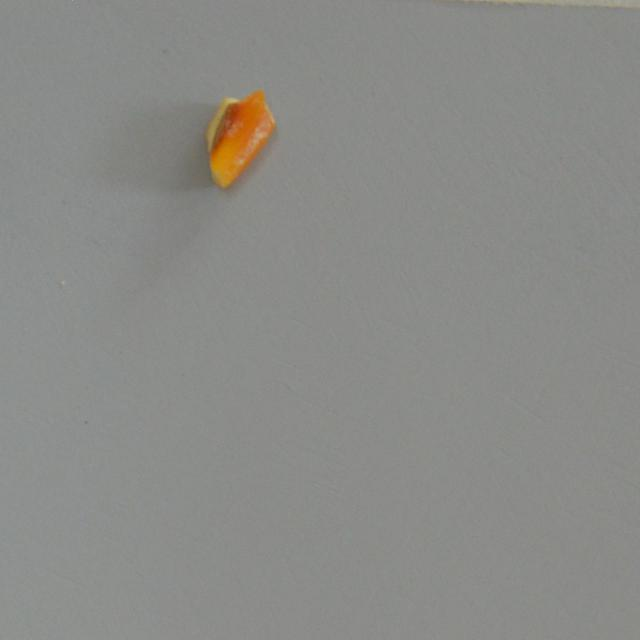dañado: (205, 90, 278, 189)
